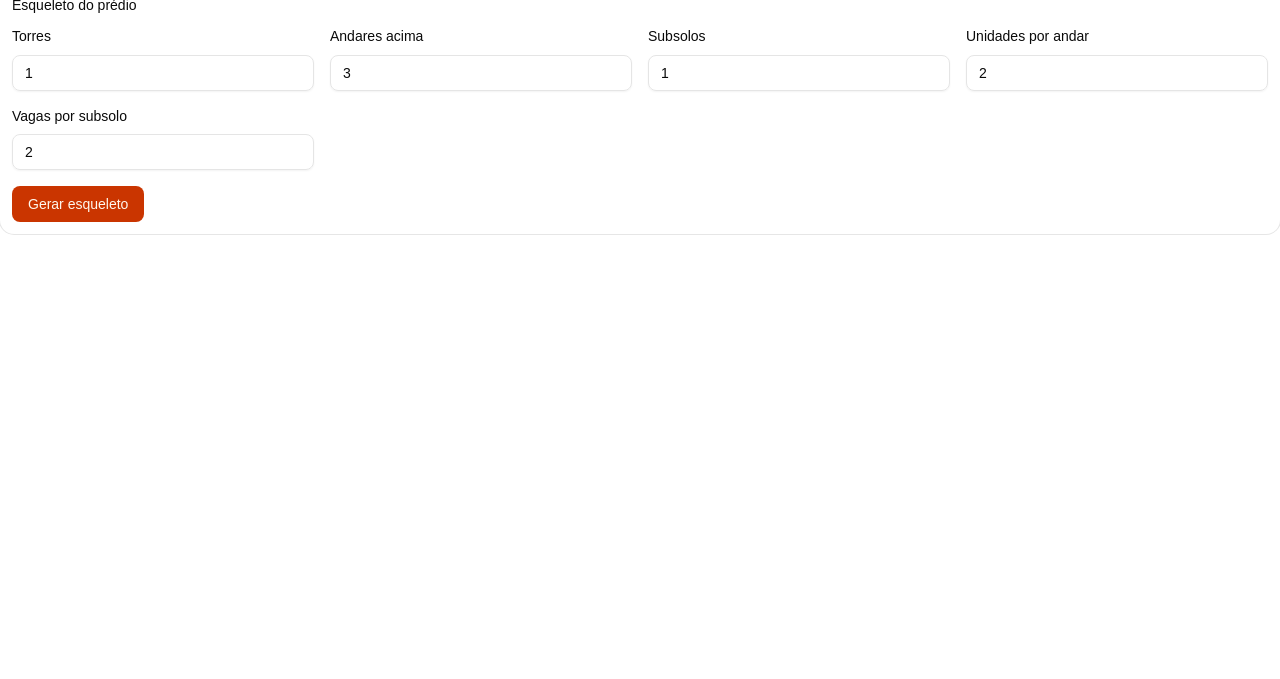
Scenario: StructureEditor › generates a floor stack from the skeleton questions
Click the button "Gerar esqueleto".
click(78, 204)  # box [12,186,144,222]
(page scrolled)
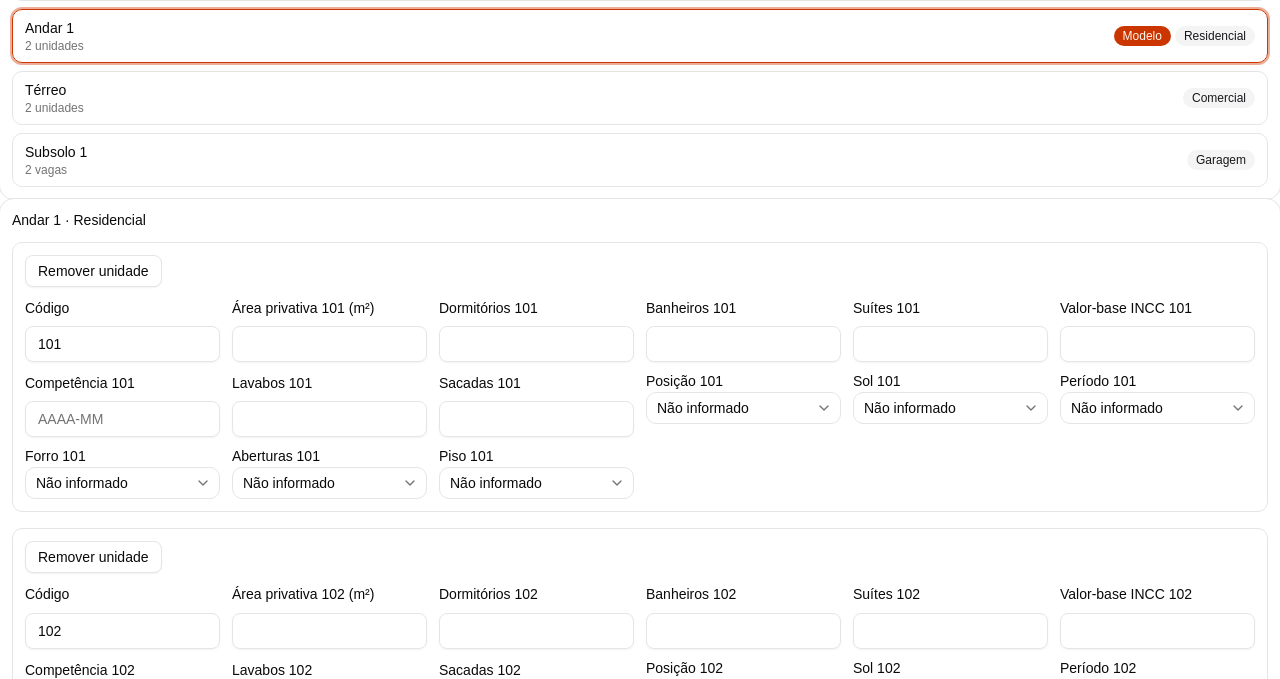
Expected: the button "Andar 1 2 unidades Modelo Residencial" is shown, [12,8,1268,62]
Expected: the button "Térreo 2 unidades Comercial" is shown, [12,70,1268,124]
Expected: the button "Subsolo 1 2 vagas Garagem" is shown, [12,132,1268,186]
